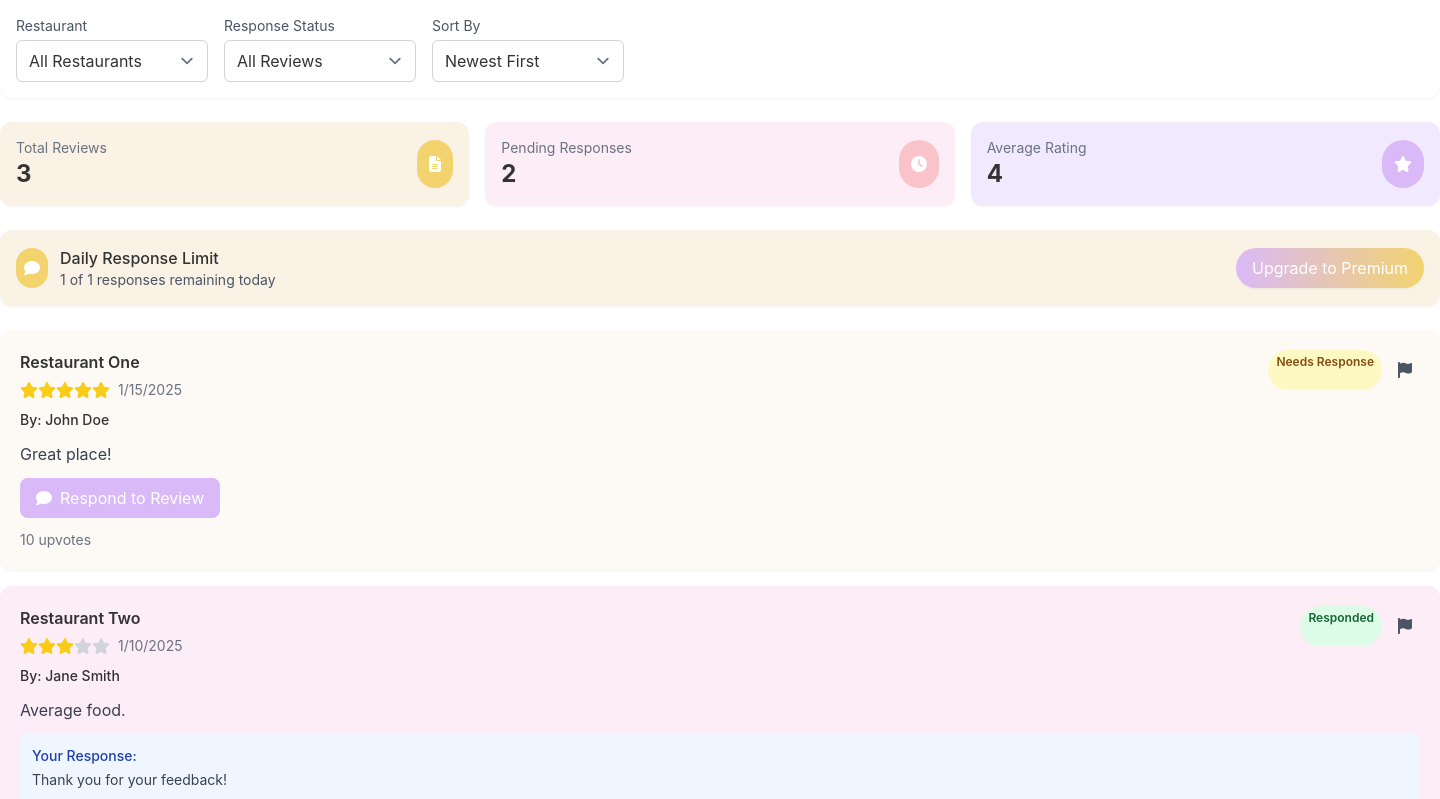
Test: ReviewManagement Component › filters reviews by response status
Check: the text "Great place!" is shown, box [20,444,112,464]
Select filter for responded reviews
Select "Responded" in the dropdown labelled "Response Status" at (320, 61), box [224,40,416,82]
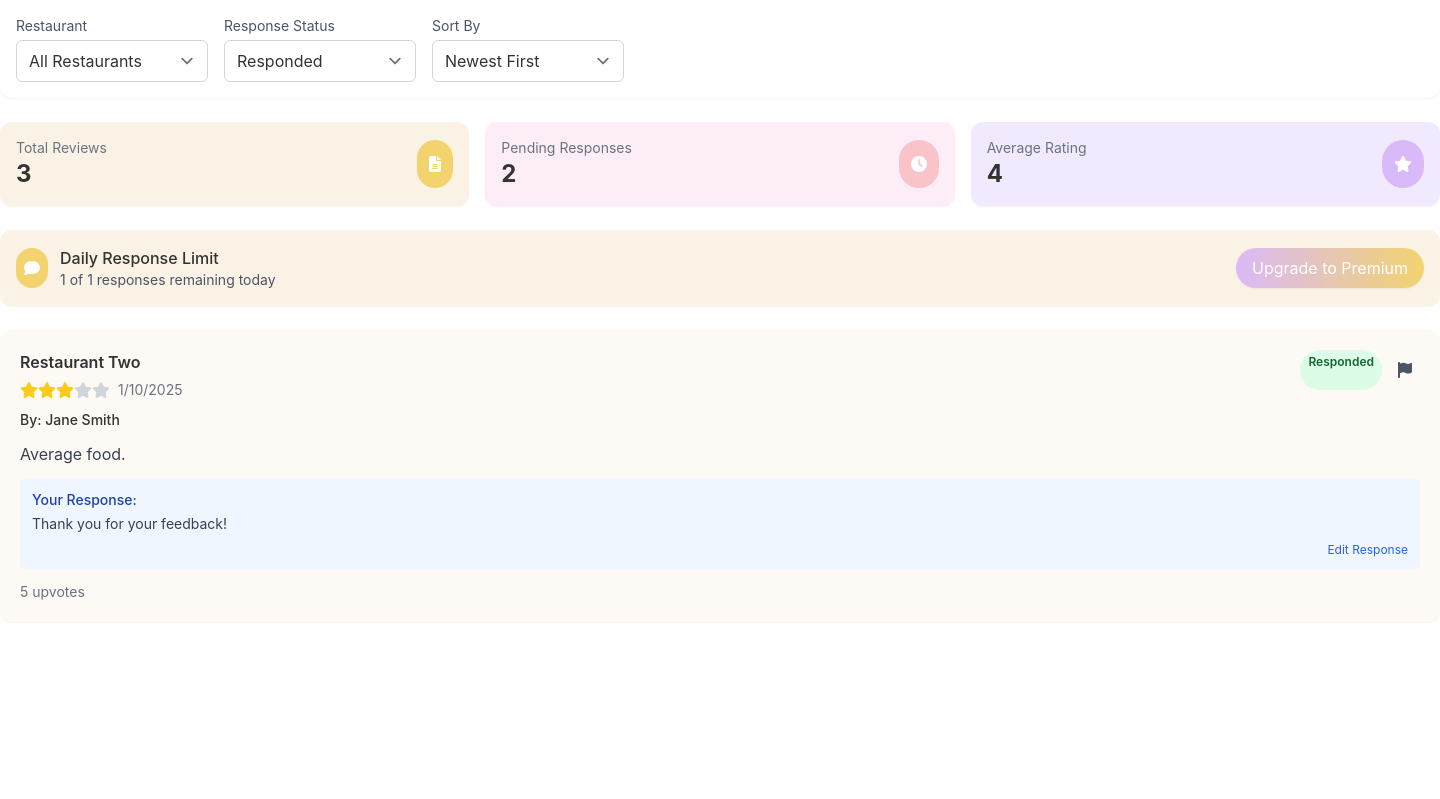
Check: the text "Average food." is shown, box [20,444,126,464]
Check: the text "Great place!" is gone
